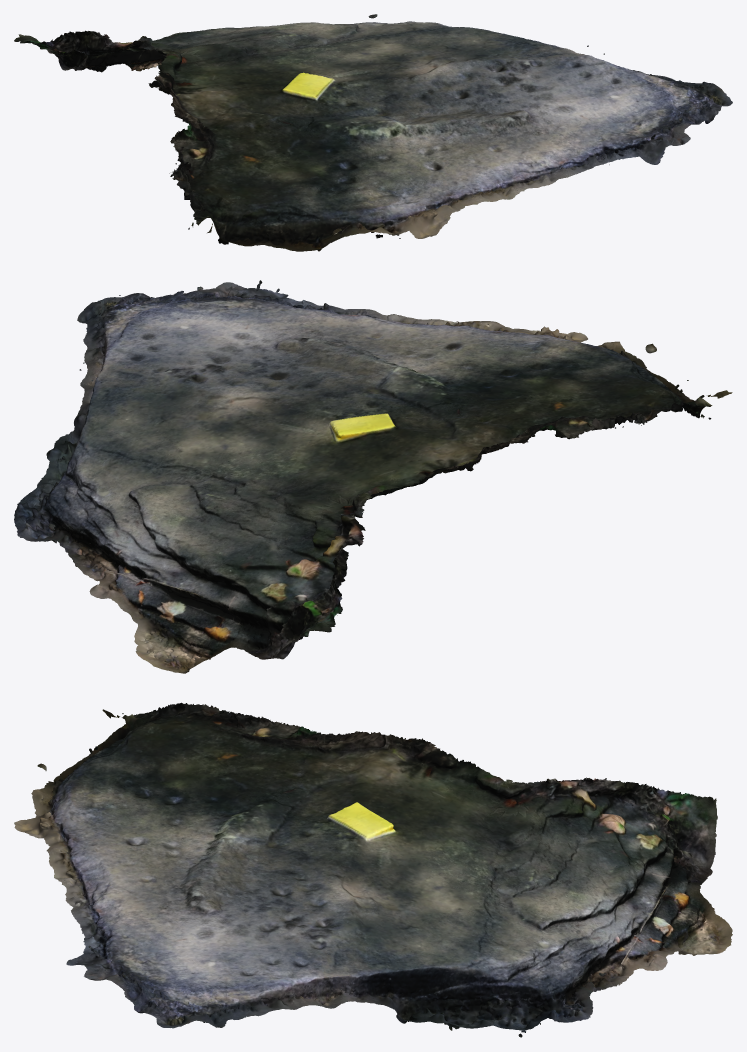
File: cranberry-3.glb
The picture shows the model from 3 angles, top to bottom: view 1: azimuth 30°, elevation 25°; view 2: azimuth 150°, elevation 25°; view 3: azimuth 270°, elevation 25°; orthographic projection. The views are drawn at different scales.
Visible parts, largest first — view 1: Object_2; view 2: Object_2; view 3: Object_2.
Part boxes in pixels (<box>): Object_2: <box>14,14,732,251</box>; Object_2: <box>14,280,732,673</box>; Object_2: <box>14,702,732,1037</box>.
Size of the model in its own units: 15.48 by 3.39 by 16.11.
1 material, 1 textured.
